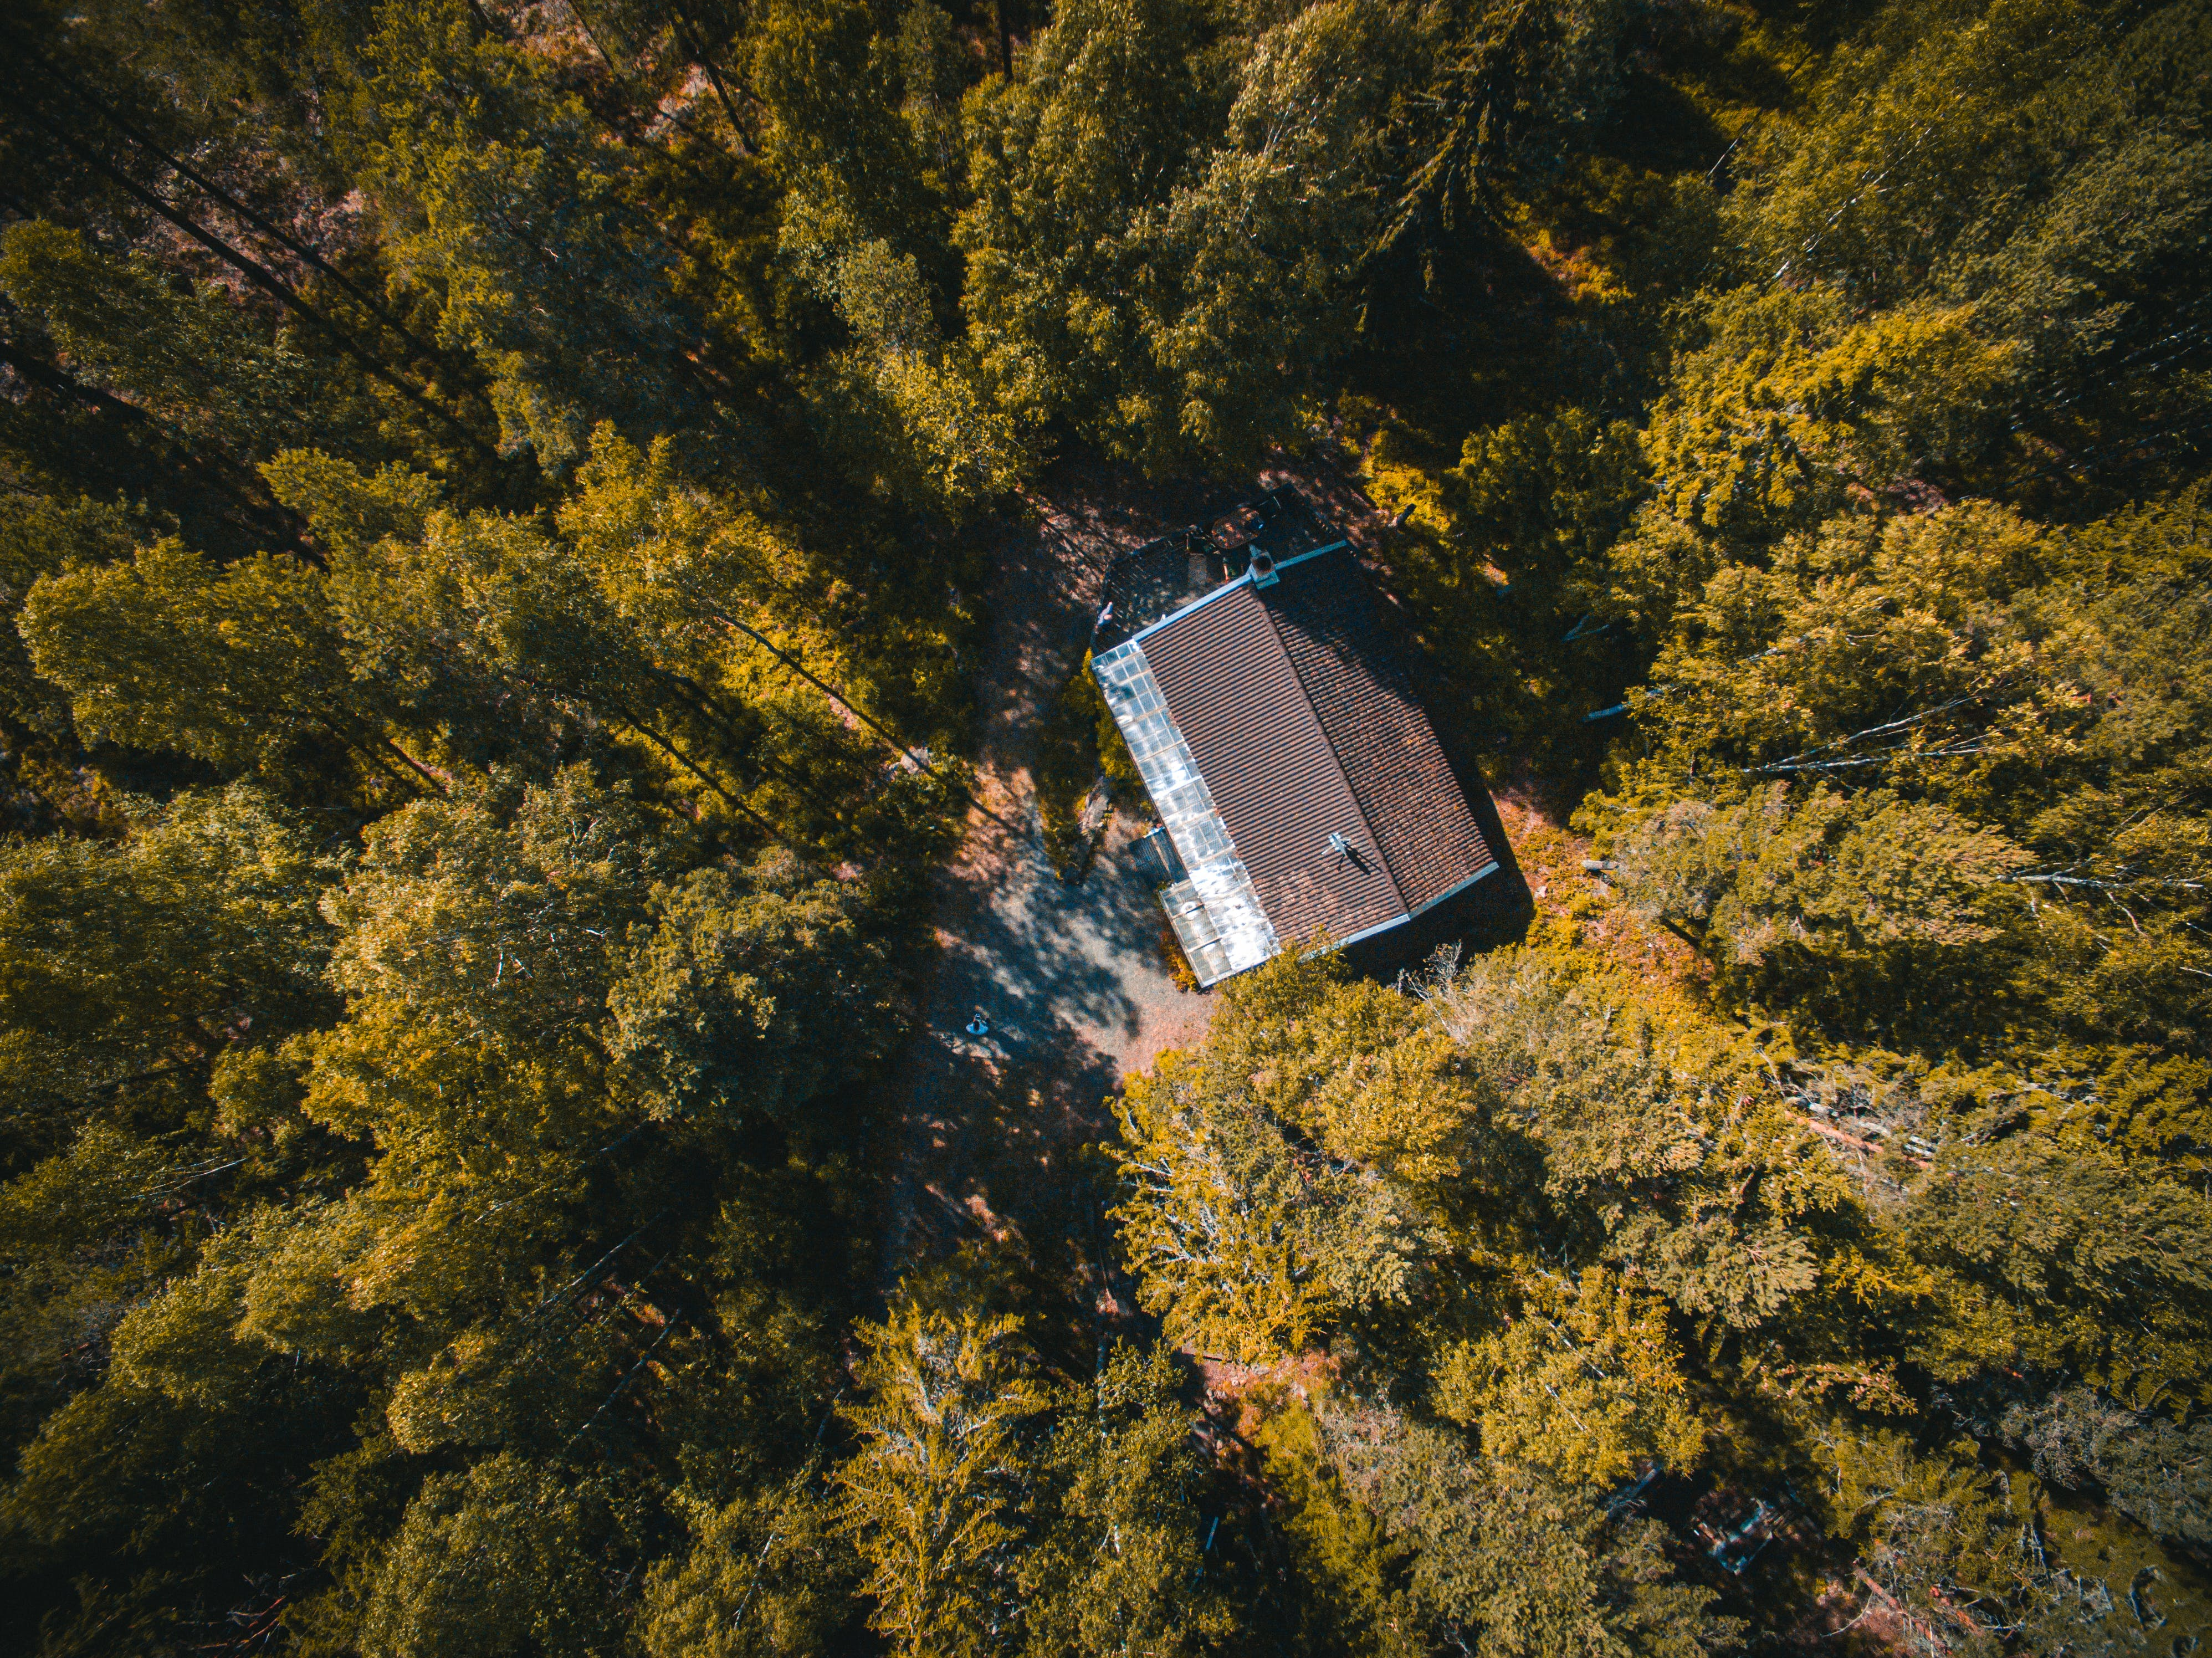build: (1080, 526, 1508, 979)
